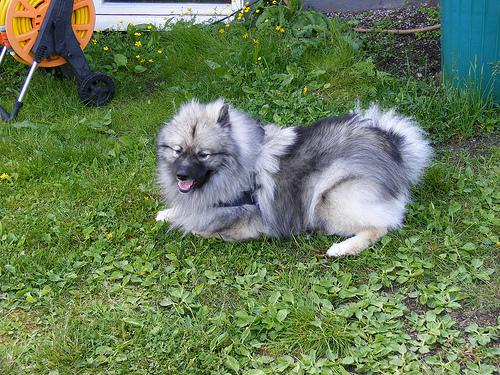dog-keeshond: (164, 102, 235, 191)
